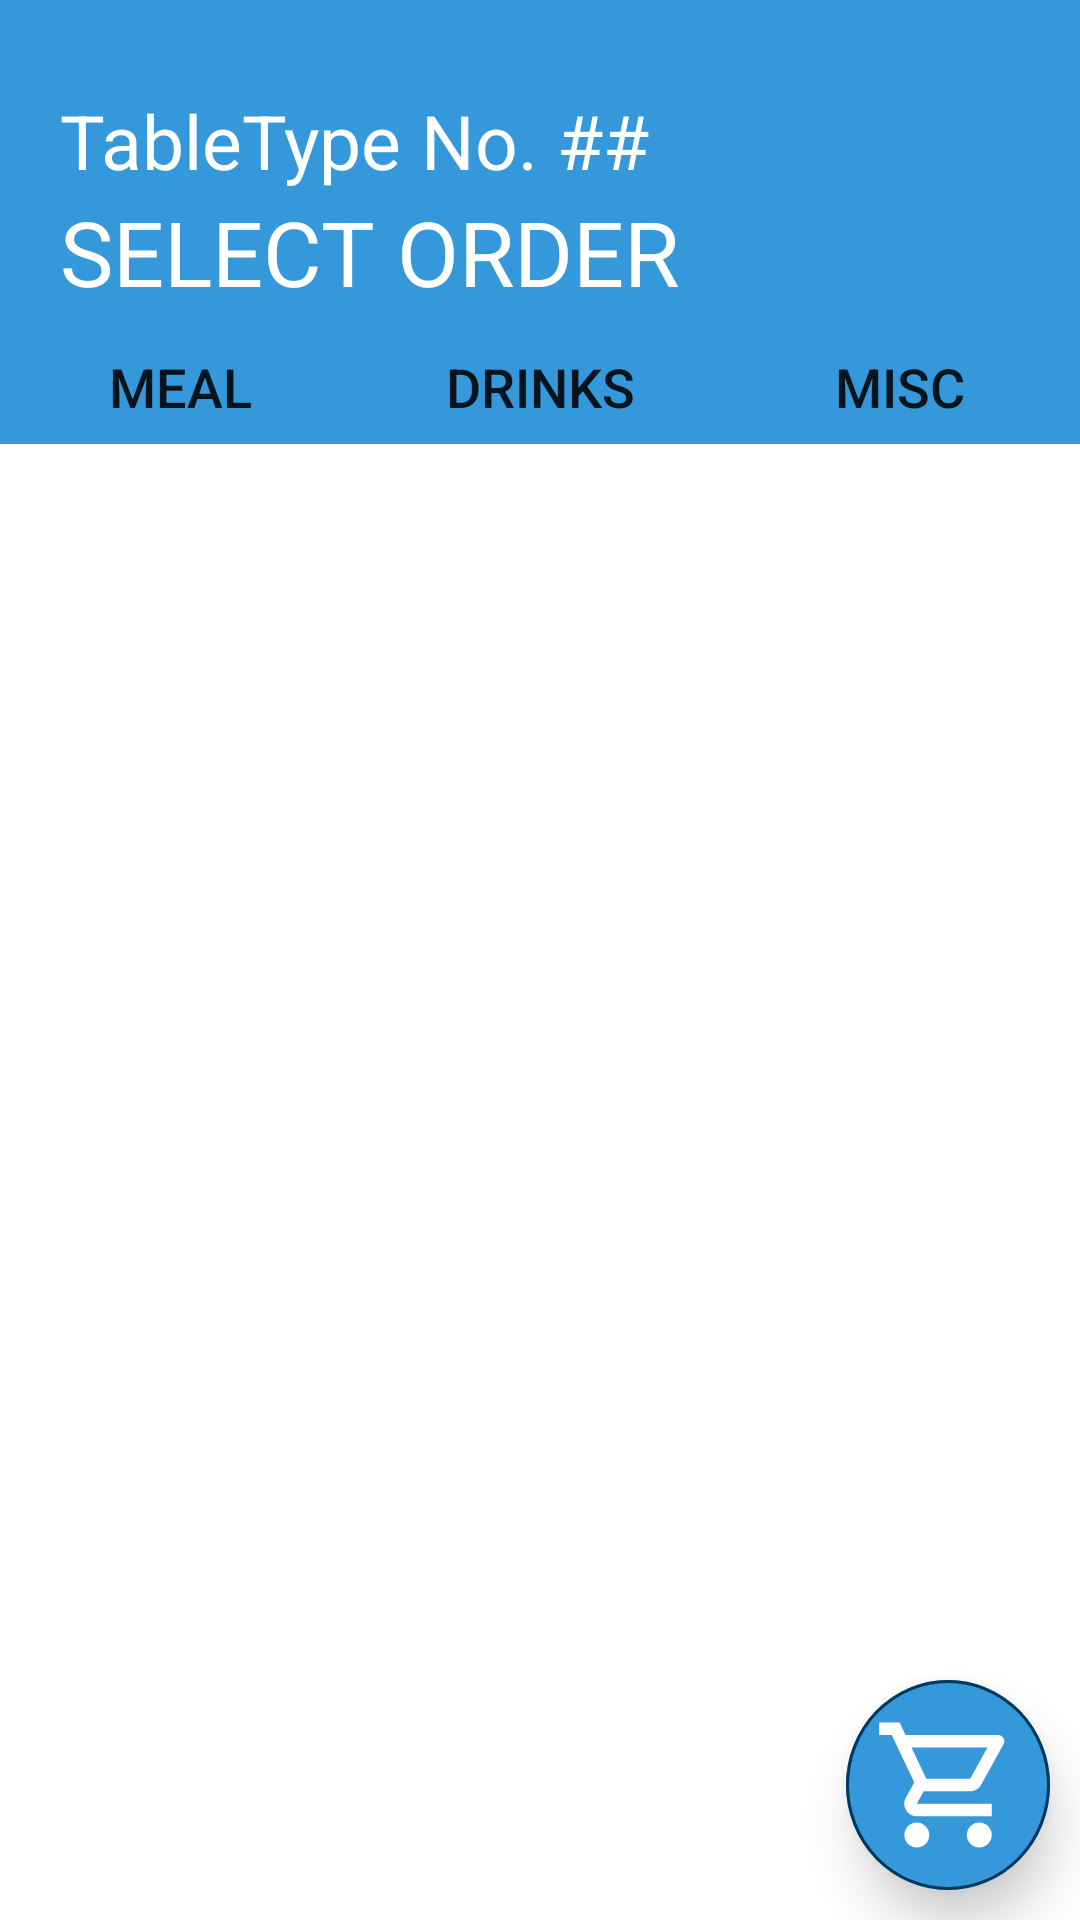

Icons on this 1080x1920 Android screen, each with its box as (x1, y1, x2, y2):
cart: (846, 1680, 1050, 1890)
